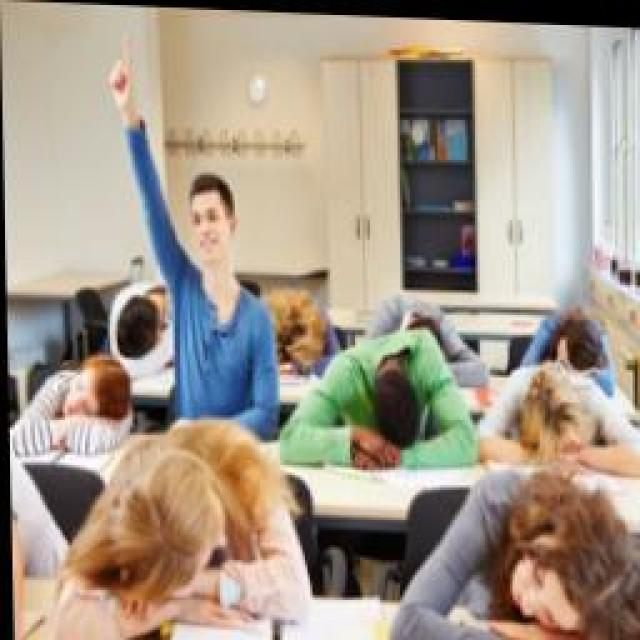sleep: (55, 420, 303, 640), (377, 440, 640, 640), (273, 317, 475, 475), (472, 350, 640, 480), (365, 287, 487, 385), (12, 355, 130, 455), (515, 297, 615, 385), (100, 278, 182, 370)
study: (110, 32, 278, 440)
